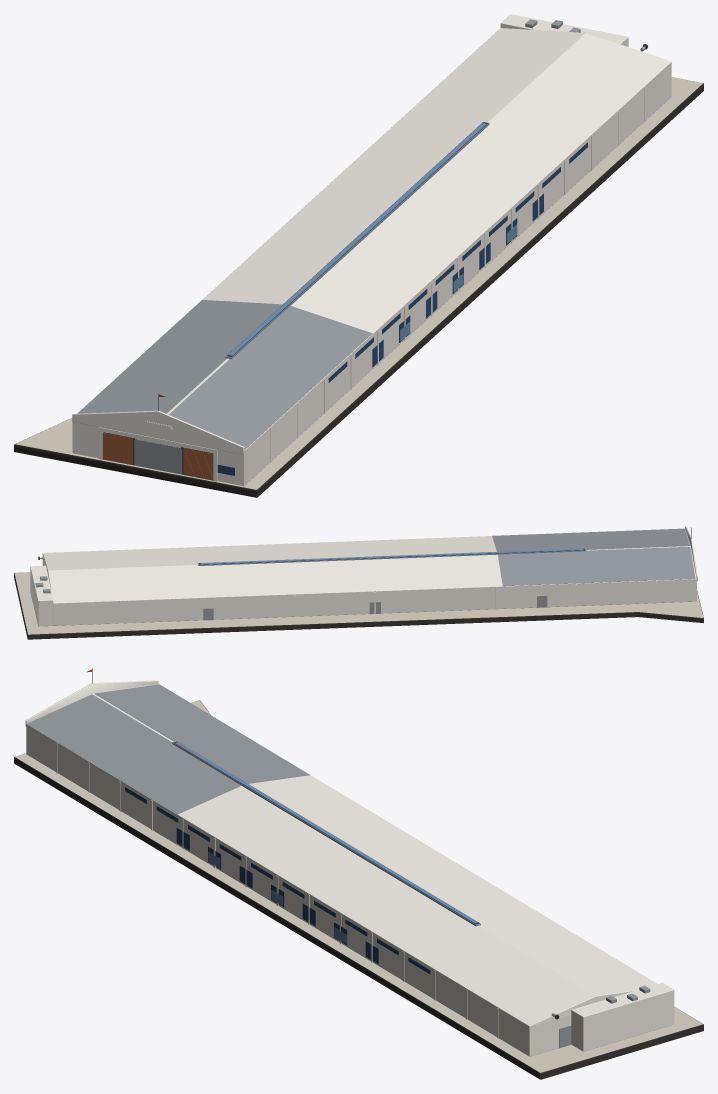
Rendered from pier-17.optimized.glb.
3 renders of one model, top to bottom at view 1: azimuth 30°, elevation 25°; view 2: azimuth 150°, elevation 25°; view 3: azimuth 270°, elevation 25°, orthographic. The views are drawn at different scales.
Parts seen in each view (by area): view 1: roof, grp_Toy_steel, grp_Toy_trim, deck, grp_Toy_glass, grp_Toy_glass_Glow, grp_Toy_rust, shed_ext; view 2: roof, grp_Toy_trim, grp_Toy_steel, deck, shed_ext, grp_Toy_glass_Glow, grp_Toy_glass; view 3: roof, grp_Toy_steel, grp_Toy_trim, deck, shed_ext, grp_Toy_glass, grp_Toy_glass_Glow.
Boxes of the visible parts, <box> form: roof: <box>166,28,671,451</box>; grp_Toy_steel: <box>77,19,645,474</box>; grp_Toy_trim: <box>72,63,671,485</box>; deck: <box>14,77,703,497</box>; grp_Toy_glass: <box>217,122,587,475</box>; grp_Toy_glass_Glow: <box>228,123,517,355</box>; grp_Toy_rust: <box>102,432,213,480</box>; shed_ext: <box>500,14,628,46</box>; roof: <box>42,530,696,603</box>; grp_Toy_trim: <box>42,526,697,625</box>; grp_Toy_steel: <box>35,527,695,620</box>; deck: <box>14,572,703,639</box>; shed_ext: <box>30,565,53,626</box>; grp_Toy_glass_Glow: <box>200,548,583,564</box>; grp_Toy_glass: <box>199,548,584,564</box>; roof: <box>26,684,657,1026</box>; grp_Toy_steel: <box>27,668,650,1048</box>; grp_Toy_trim: <box>25,680,571,1056</box>; deck: <box>14,700,703,1079</box>; shed_ext: <box>571,982,674,1051</box>; grp_Toy_glass: <box>125,741,479,974</box>; grp_Toy_glass_Glow: <box>175,742,477,943</box>.
Bounding box in the file's own units: 234 × 21.3 × 183.
